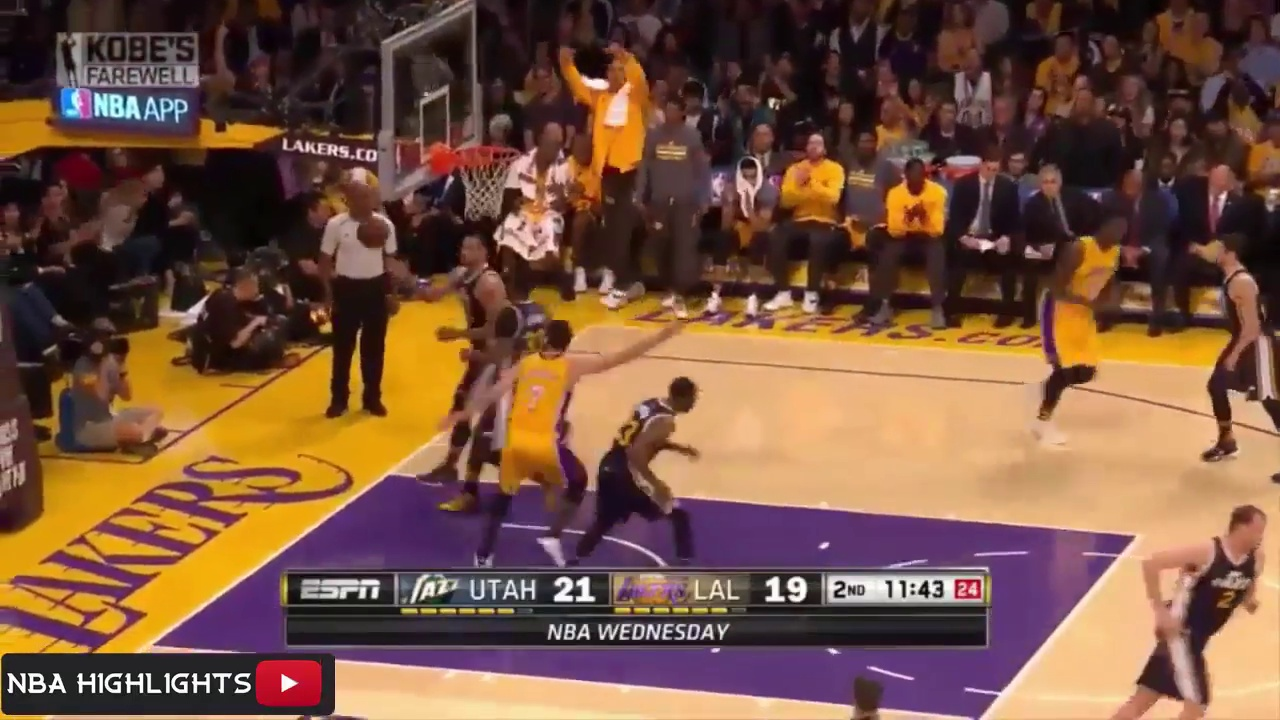jazz: (1115, 510, 1274, 716), (583, 370, 722, 564), (398, 230, 496, 471), (1198, 227, 1280, 477), (501, 266, 551, 374)
lakers: (474, 309, 594, 561), (1027, 218, 1133, 445)
